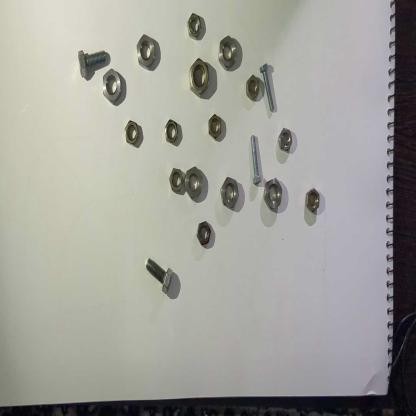Bolts: (143, 252, 175, 299), (75, 46, 115, 78), (258, 62, 278, 116), (249, 130, 262, 192)
NUTS: (132, 32, 158, 74), (218, 169, 240, 216), (185, 162, 207, 209), (259, 178, 287, 214), (101, 67, 125, 106), (302, 183, 324, 225), (217, 31, 238, 72), (183, 9, 204, 46), (192, 219, 214, 252), (161, 114, 182, 147), (206, 108, 226, 142), (122, 116, 140, 152), (168, 164, 186, 196), (277, 120, 293, 154), (245, 70, 261, 102)
